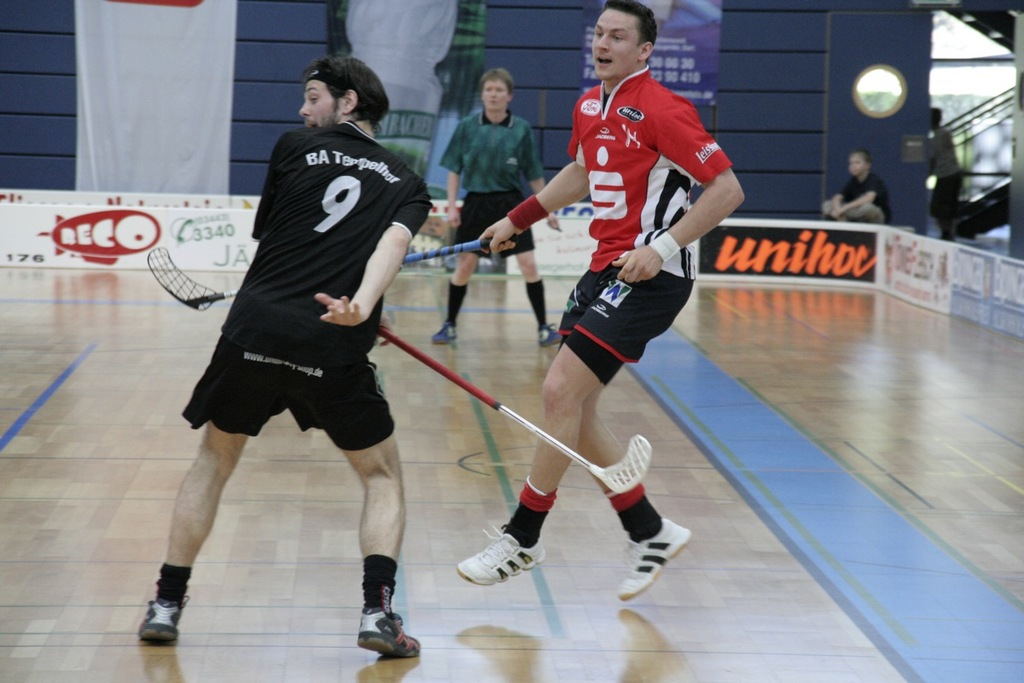Person: (136, 0, 963, 659)
